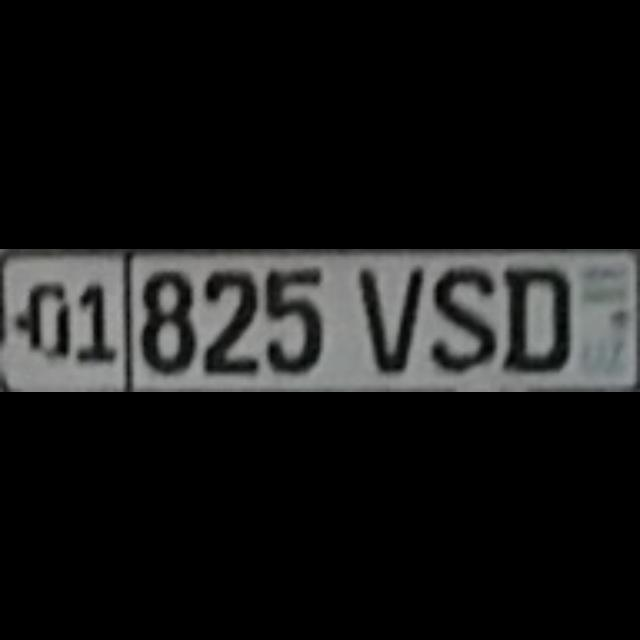0: (24, 278, 66, 362)
1: (70, 278, 110, 362)
2: (197, 268, 250, 372)
5: (260, 264, 320, 368)
8: (136, 268, 190, 372)
D: (497, 264, 567, 372)
S: (426, 261, 494, 371)
V: (354, 262, 416, 368)
